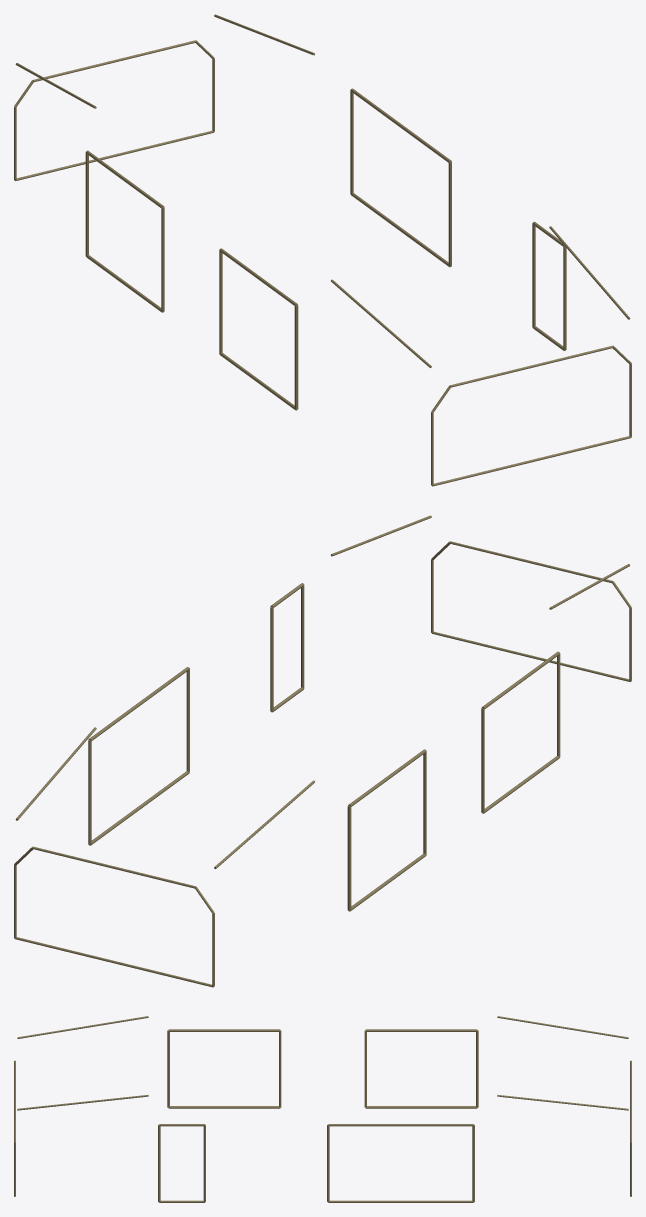
Rendered from vintage-windup-camper--canvas-seam.glb.
3 renders of one model, top to bottom at view 1: azimuth 30°, elevation 25°; view 2: azimuth 150°, elevation 25°; view 3: azimuth 270°, elevation 25°, orthographic. The views are drawn at different scales.
Visible parts, largest first — view 1: vintage-windup-camper; view 2: vintage-windup-camper; view 3: vintage-windup-camper.
Boxes of the visible parts, x1,y1,x2,y2 form: vintage-windup-camper: (14, 14, 631, 486); vintage-windup-camper: (14, 515, 631, 987); vintage-windup-camper: (14, 1016, 631, 1202).
Bounding box in the file's own units: 2.09 × 1.08 × 5.7.
